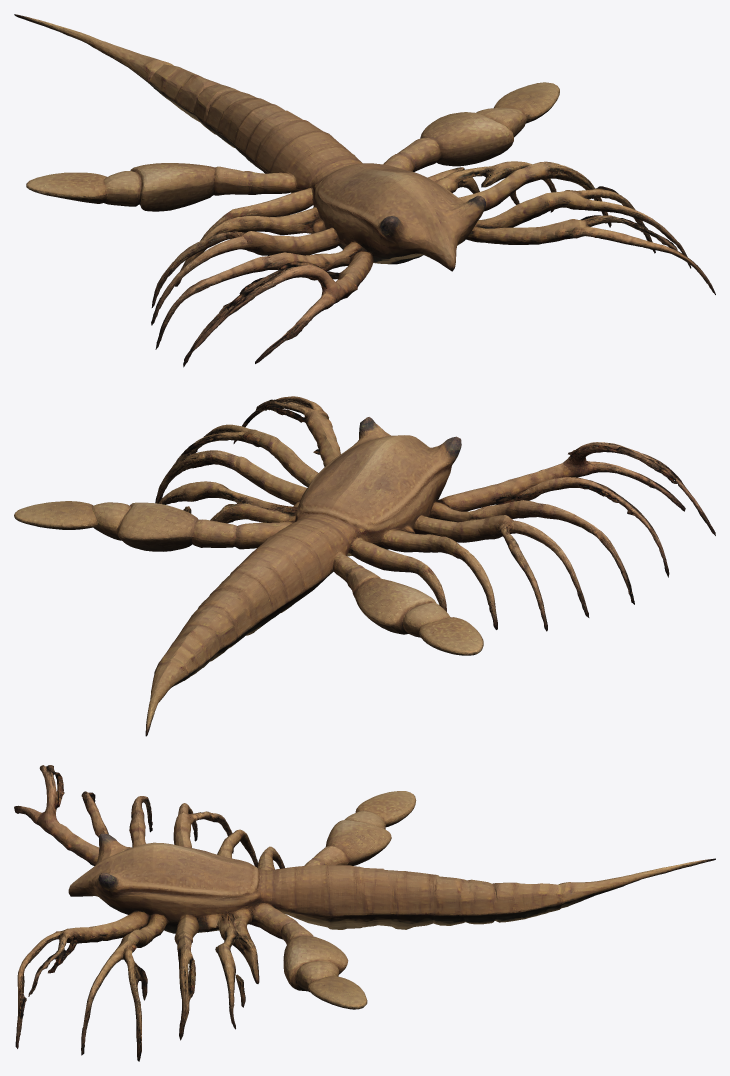
3 views of the same model, one above another, from view 1: azimuth 30°, elevation 25°; view 2: azimuth 150°, elevation 25°; view 3: azimuth 270°, elevation 25° (orthographic). The views are drawn at different scales.
Parts seen in each view (by area): view 1: world; view 2: world; view 3: world.
Part boxes in pixels (x1,y1,x2,y2): world: (14,14,715,367); world: (14,396,715,736); world: (14,765,715,1061).
Bounding box in the file's own units: 1.34 × 0.3017 × 1.7.
Materials: 1 (1 with a texture image).
